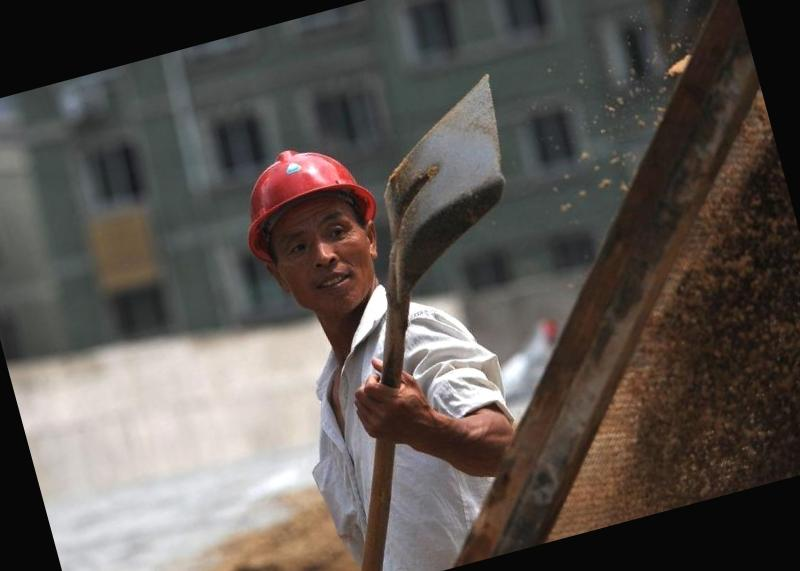helmet: (224, 134, 374, 230)
no_vest: (270, 272, 528, 568)
person: (215, 102, 555, 571)
